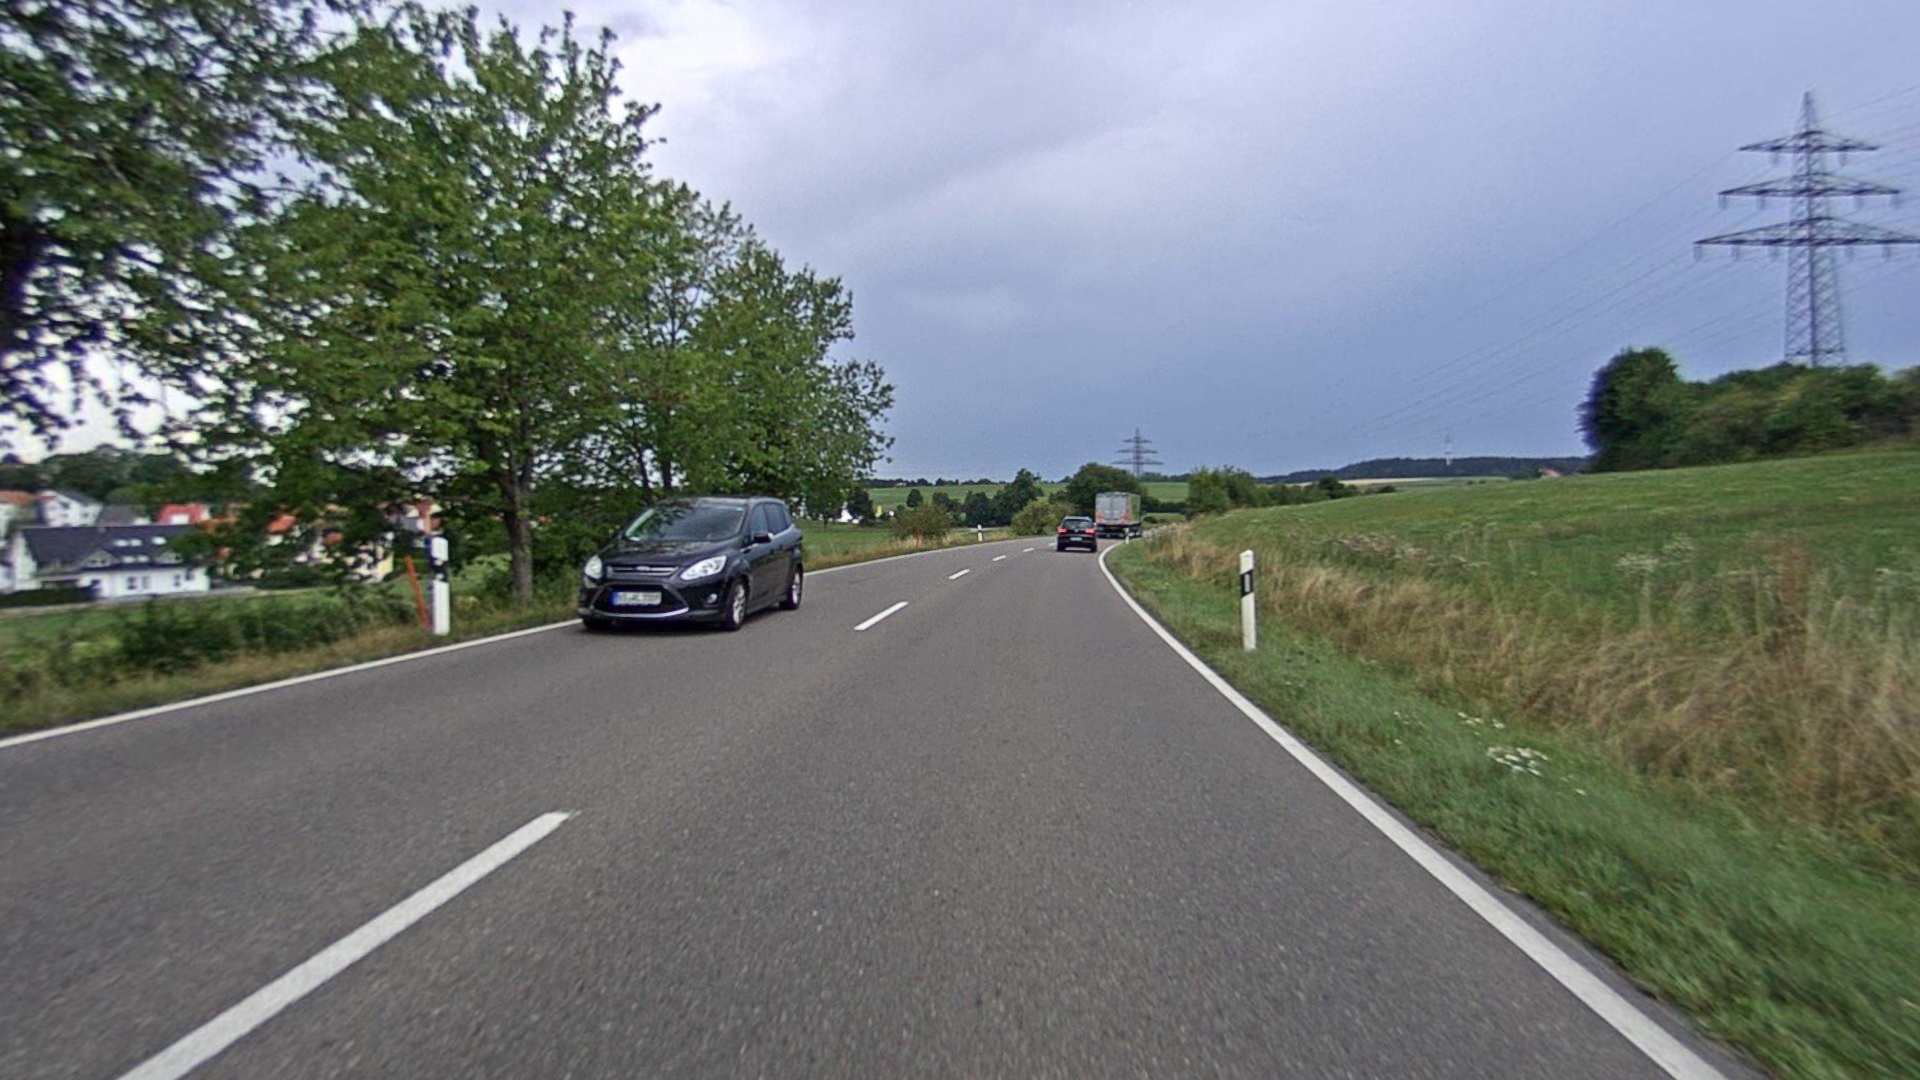car: (568, 493, 806, 640)
